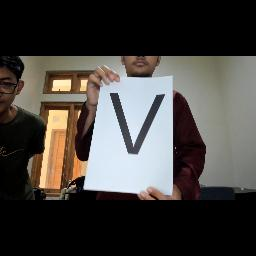v: (107, 86, 169, 158)
